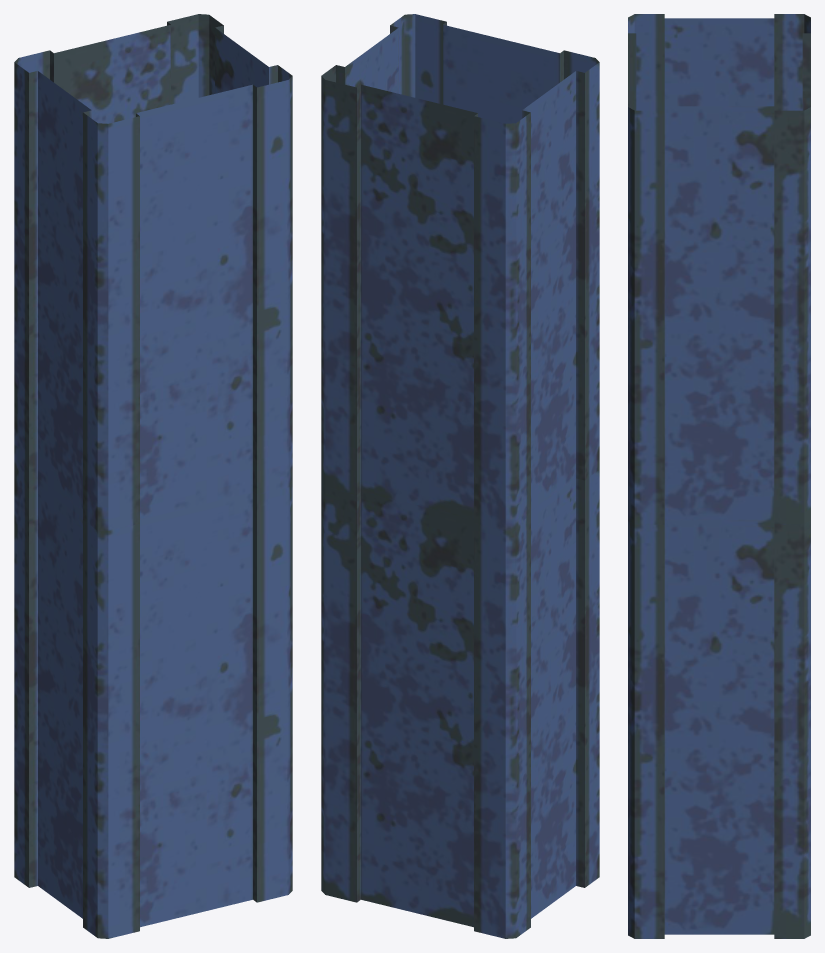
Rendered from Coluna.fbx.
3 renders of one model, left to right at view 1: azimuth 30°, elevation 25°; view 2: azimuth 150°, elevation 25°; view 3: azimuth 270°, elevation 25°, orthographic.
Visible parts, largest first — view 1: Coluna; view 2: Coluna; view 3: Coluna.
Part boxes in pixels (left/top/right/bottom): Coluna: left=14, top=14, right=292, bottom=938; Coluna: left=321, top=14, right=599, bottom=938; Coluna: left=628, top=14, right=810, bottom=938.
Size of the model in its own units: 100 by 400 by 80.
